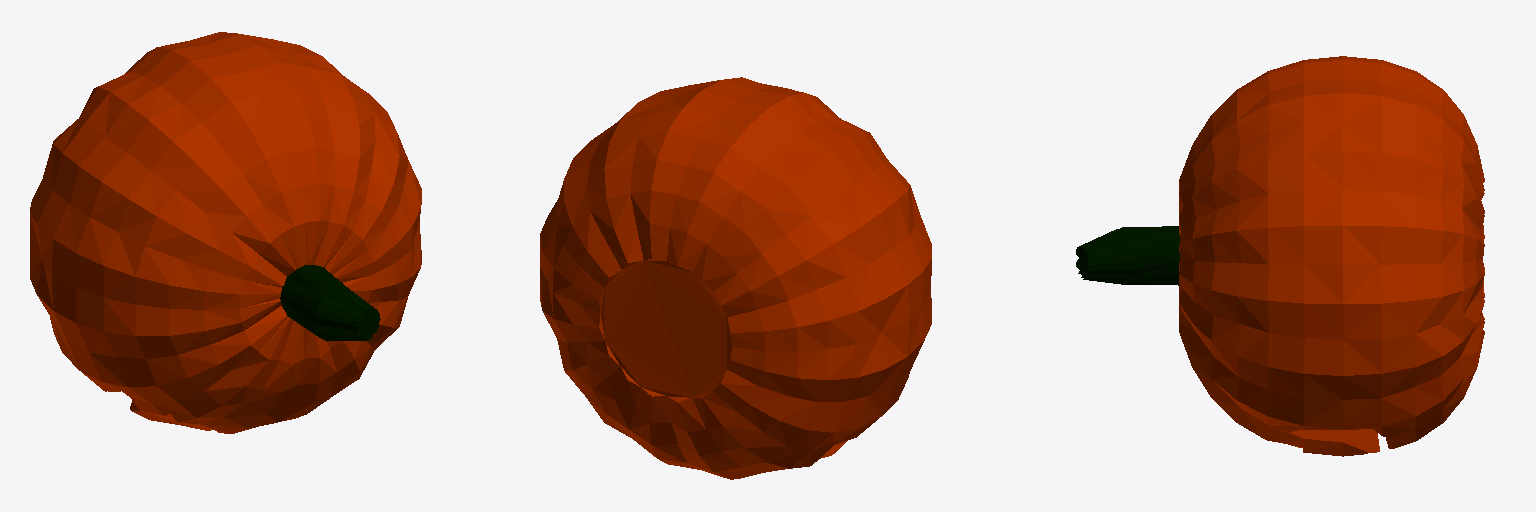
File: pumpkin.obj
The picture shows the model from 3 angles: view 1: azimuth 30°, elevation 25°; view 2: azimuth 150°, elevation 25°; view 3: azimuth 270°, elevation 25°; orthographic projection.
Parts seen in each view (by area): view 1: Sphere; view 2: Sphere; view 3: Sphere.
Part boxes in pixels (left/top/right/bottom): Sphere: left=30, top=32, right=421, bottom=433; Sphere: left=540, top=77, right=931, bottom=479; Sphere: left=1076, top=56, right=1484, bottom=456.
Bounding box in the file's own units: 2.07 × 2.06 × 2.13.